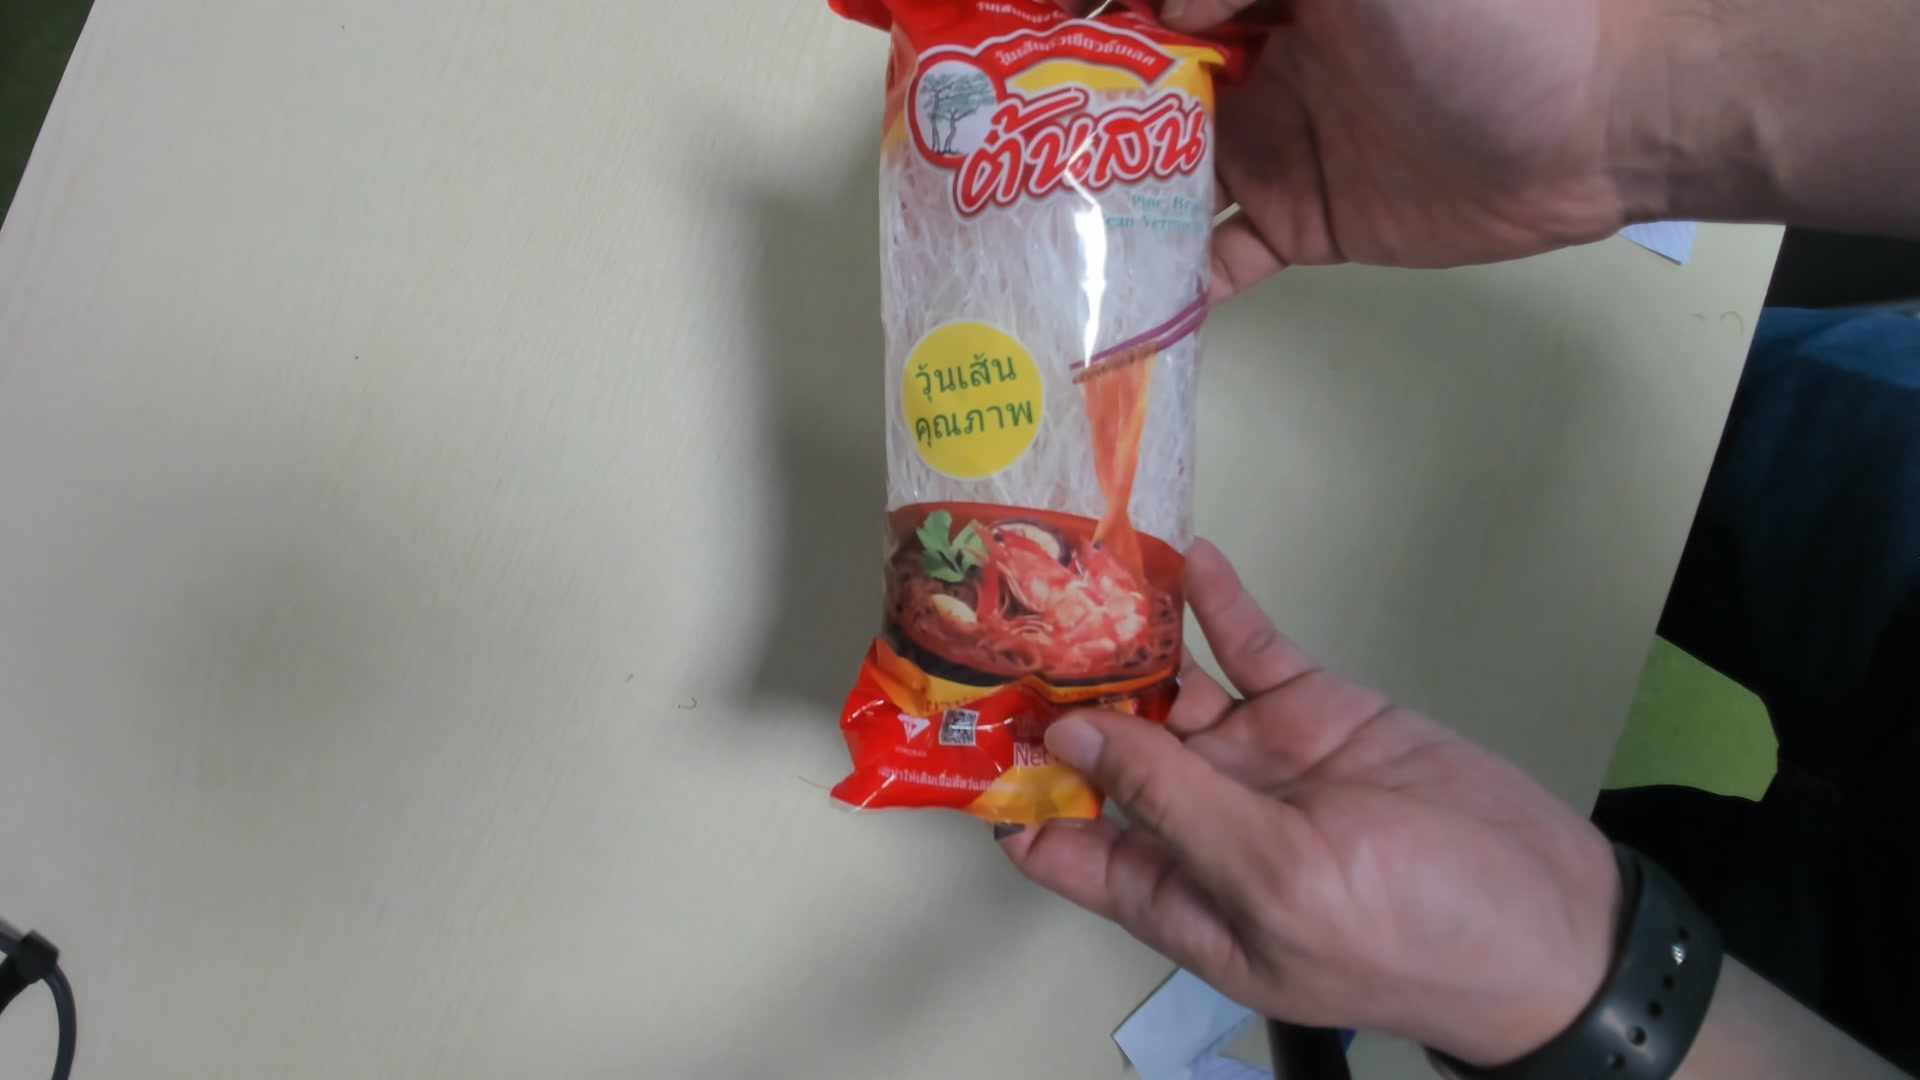BeeHoonVermicelli_0-99g_Halal_NonHealthy: (828, 8, 1240, 832)
